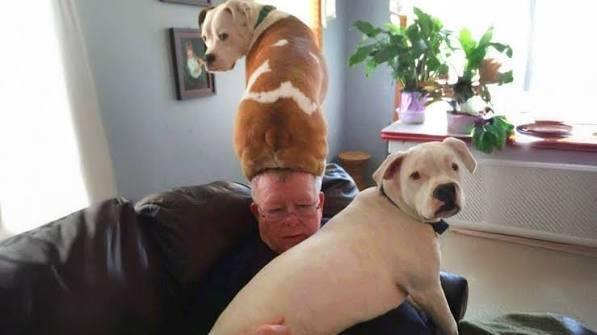adult_dog: (206, 136, 480, 335), (199, 1, 327, 179)
